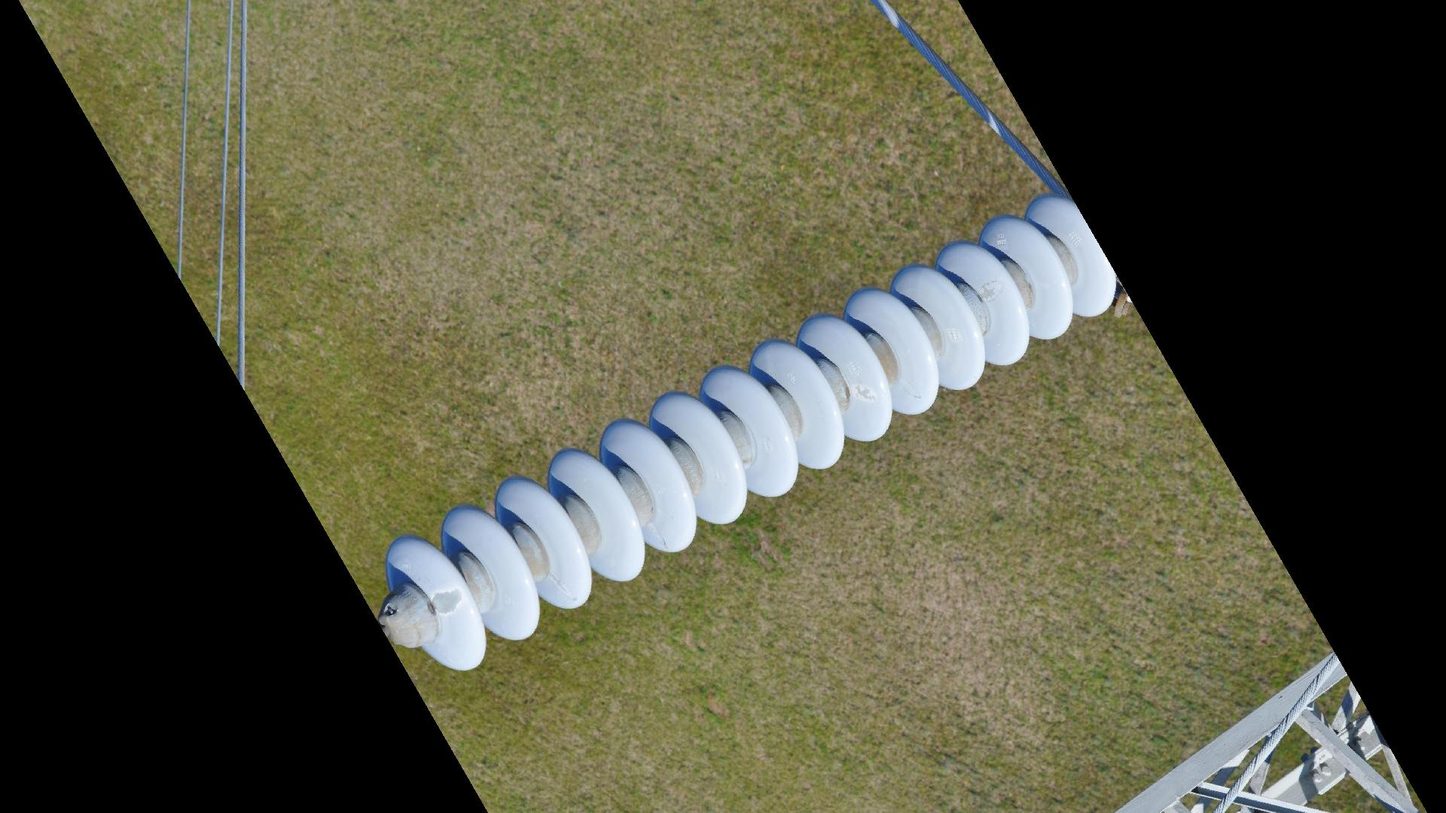insulator: (380, 190, 1125, 677)
insulator_flashover: (429, 585, 465, 616), (848, 379, 880, 406)
